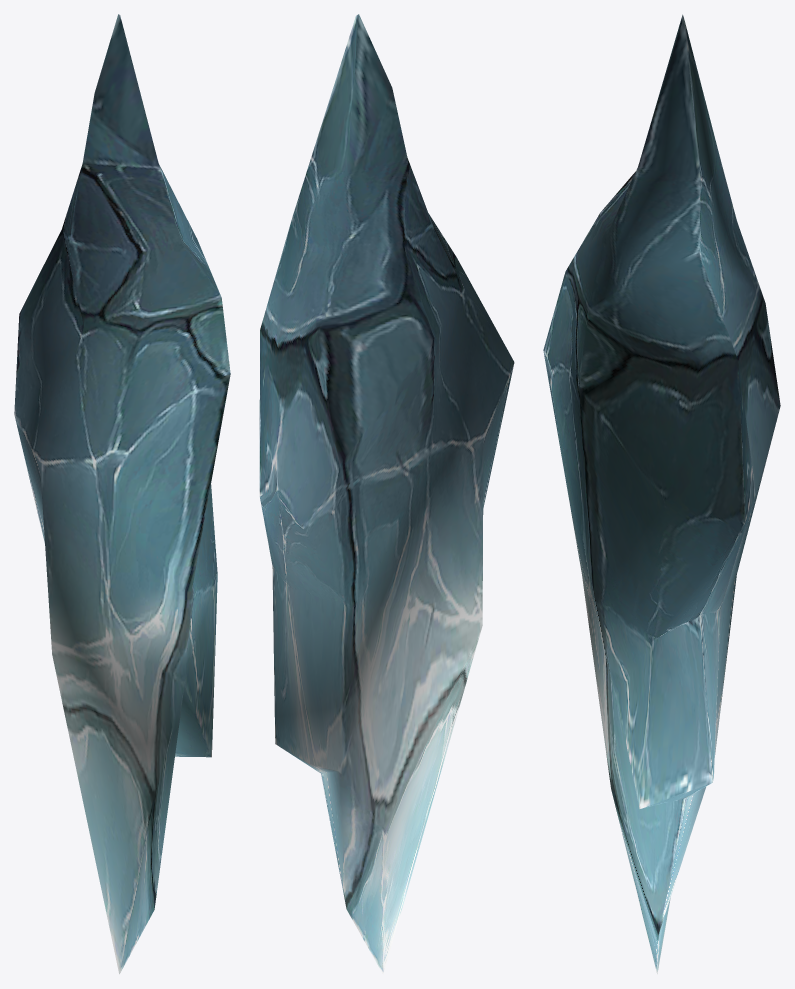
Rendered from iceShard.fbx.
3 renders of one model, left to right at view 1: azimuth 30°, elevation 25°; view 2: azimuth 150°, elevation 25°; view 3: azimuth 270°, elevation 25°, orthographic.
Parts seen in each view (by area): view 1: iceShard; view 2: iceShard; view 3: iceShard.
Part boxes in pixels (bbox=[...]): iceShard: bbox=[14, 14, 230, 974]; iceShard: bbox=[259, 14, 514, 974]; iceShard: bbox=[543, 14, 780, 974].
Bounding box in the file's own units: 4.5 × 21.88 × 4.87.
